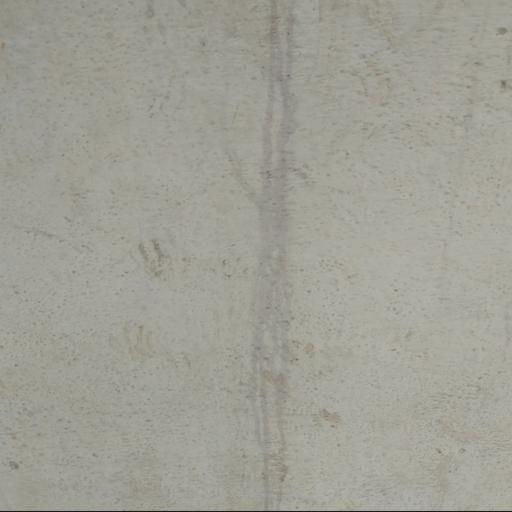stain: (170, 0, 368, 512)
